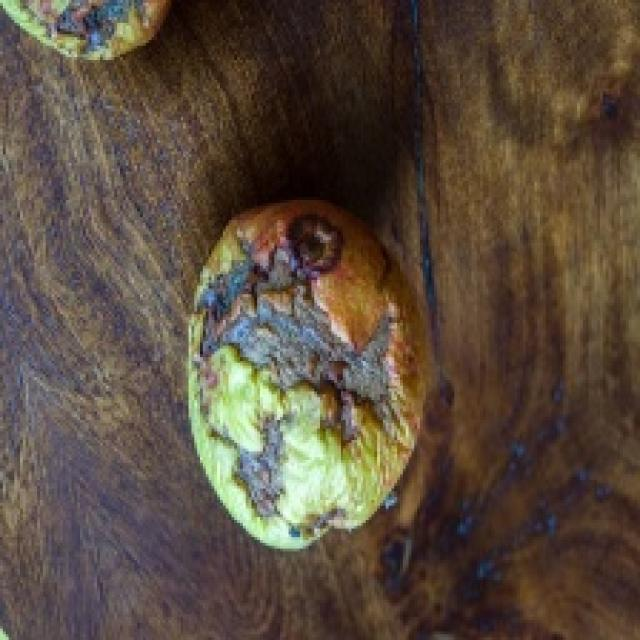rotten_apple: (193, 201, 424, 548)
